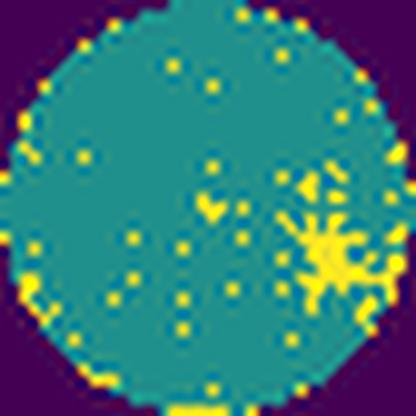Loc: (276, 206, 407, 306)
